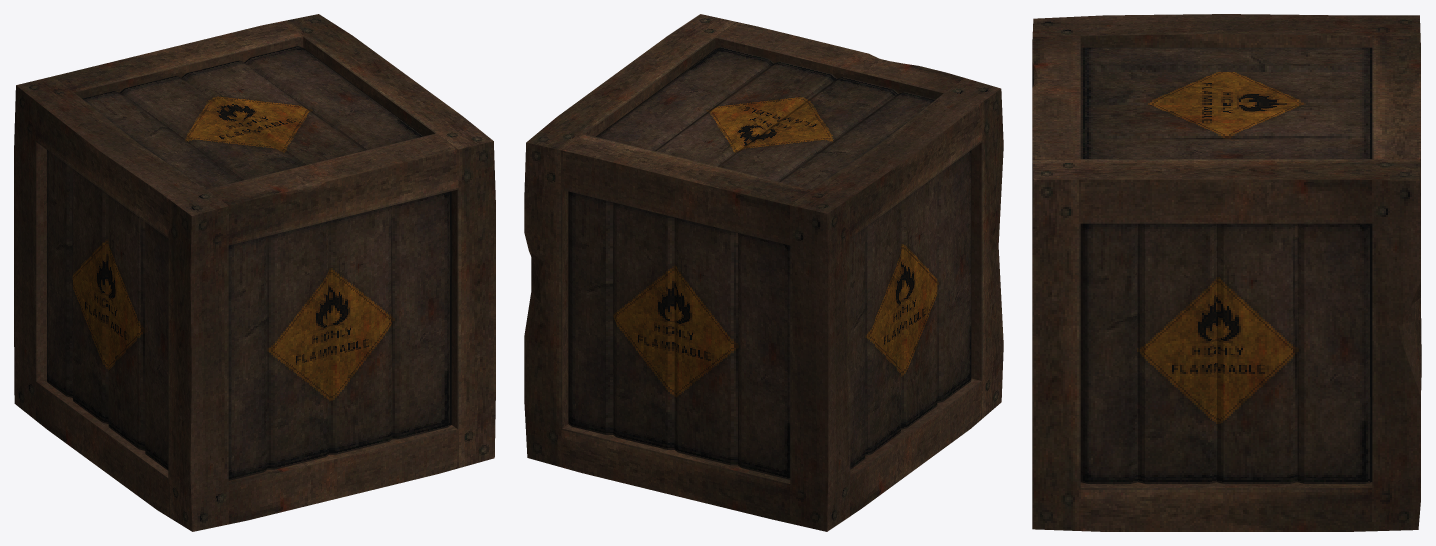
Rendered from wooden_crate_4.glb.
3 views of the same model, side by side, from view 1: azimuth 30°, elevation 25°; view 2: azimuth 150°, elevation 25°; view 3: azimuth 270°, elevation 25° (orthographic). The views are drawn at different scales.
Visible parts, largest first — view 1: wooden_crate_4; view 2: wooden_crate_4; view 3: wooden_crate_4.
Part boxes in pixels (x1,y1,x2,y2): wooden_crate_4: (14, 14, 495, 531); wooden_crate_4: (524, 14, 1003, 531); wooden_crate_4: (1032, 14, 1421, 531).
Size of the model in its own units: 1.09 by 1.08 by 1.08.
Materials: 1 (1 with a texture image).
